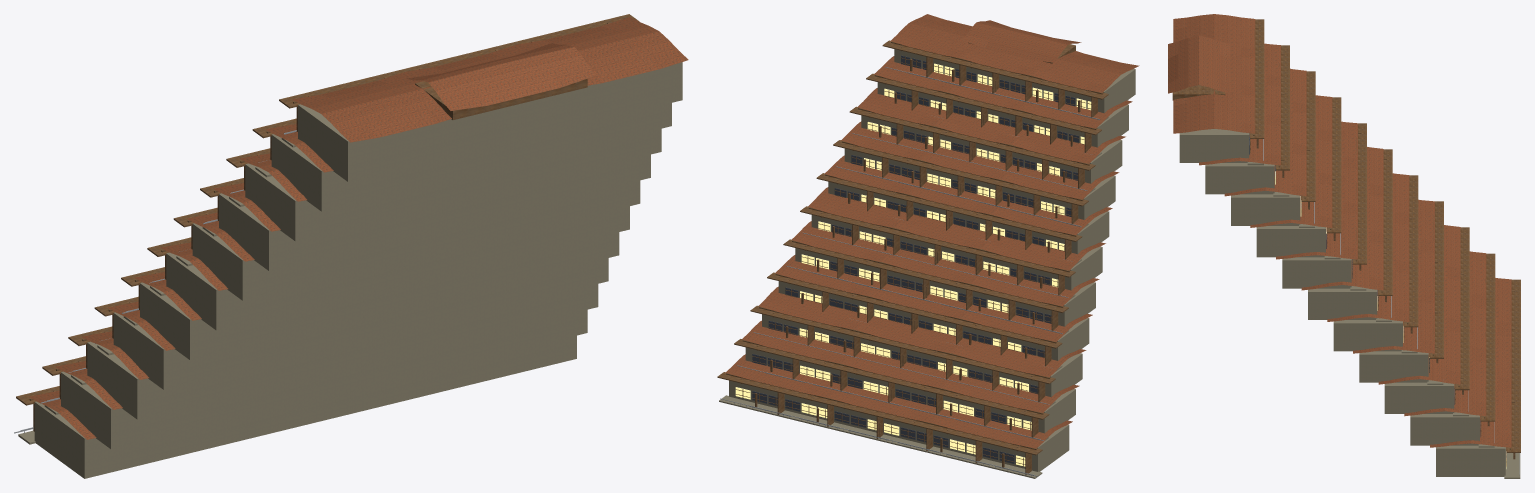
File: hongyadong-study.glb
The picture shows the model from 3 angles, left to right: view 1: azimuth 30°, elevation 25°; view 2: azimuth 150°, elevation 25°; view 3: azimuth 270°, elevation 25°; orthographic projection. The views are drawn at different scales.
Visible parts, largest first — view 1: Hongyadong_Facade_GameScale_LOD0; view 2: Hongyadong_Facade_GameScale_LOD0; view 3: Hongyadong_Facade_GameScale_LOD0.
Boxes of the visible parts, box(x1,y1,x2,y2) form: Hongyadong_Facade_GameScale_LOD0: box(14, 14, 688, 478); Hongyadong_Facade_GameScale_LOD0: box(717, 14, 1139, 478); Hongyadong_Facade_GameScale_LOD0: box(1168, 14, 1520, 478).
Bounding box in the file's own units: 133 × 119 × 114.
7 materials, 4 textured.
